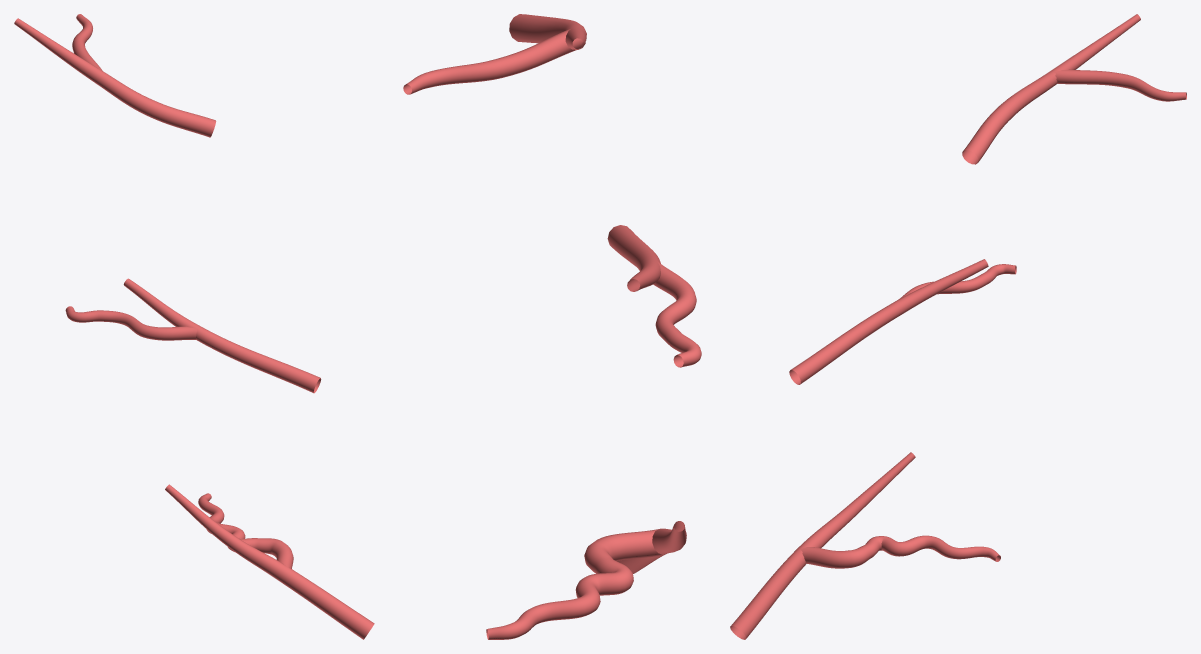
File: Septal_branches_002.glb
3 views of the same model, side by side, from view 1: azimuth 30°, elevation 25°; view 2: azimuth 150°, elevation 25°; view 3: azimuth 270°, elevation 25° (orthographic). The views are drawn at different scales.
Visible parts, largest first — view 1: septal_branches?_BezierCurve.463; view 2: septal_branches?_BezierCurve.463; view 3: septal_branches?_BezierCurve.463.
Part boxes in pixels (left/top/right/bottom): septal_branches?_BezierCurve.463: left=14, top=14, right=374, bottom=639; septal_branches?_BezierCurve.463: left=403, top=14, right=701, bottom=639; septal_branches?_BezierCurve.463: left=730, top=14, right=1186, bottom=639.
Size of the model in its own units: 0.0147 by 0.0406 by 0.0308.
